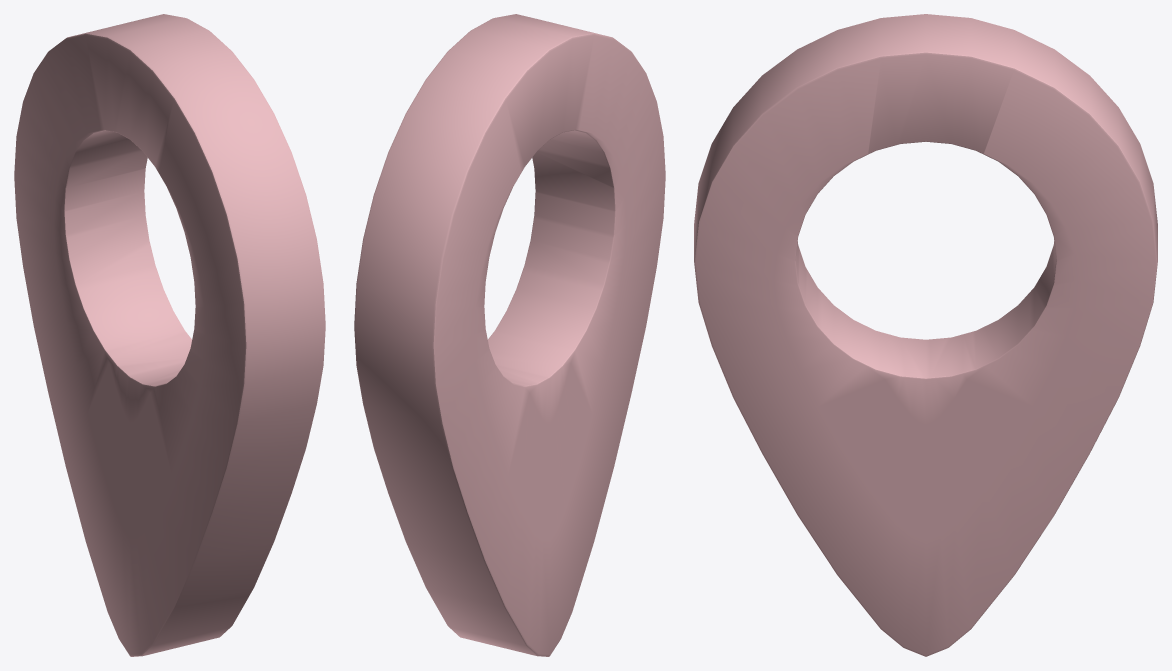
Rendered from PinkPins.fbx.
3 views of the same model, side by side, from view 1: azimuth 30°, elevation 25°; view 2: azimuth 150°, elevation 25°; view 3: azimuth 270°, elevation 25° (orthographic).
Visible parts, largest first — view 1: PinkPins; view 2: PinkPins; view 3: PinkPins.
Part boxes in pixels (box(x1,y1,x2,y2)): PinkPins: box(14, 14, 325, 656); PinkPins: box(354, 14, 665, 656); PinkPins: box(694, 14, 1157, 656).
Size of the model in its own units: 69.62 by 100 by 13.91.
